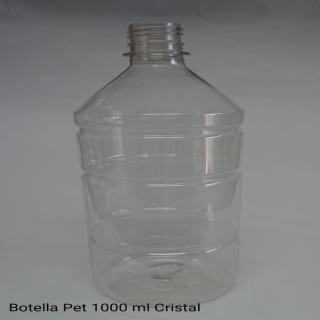Plastic-bottle: (68, 20, 254, 314)
